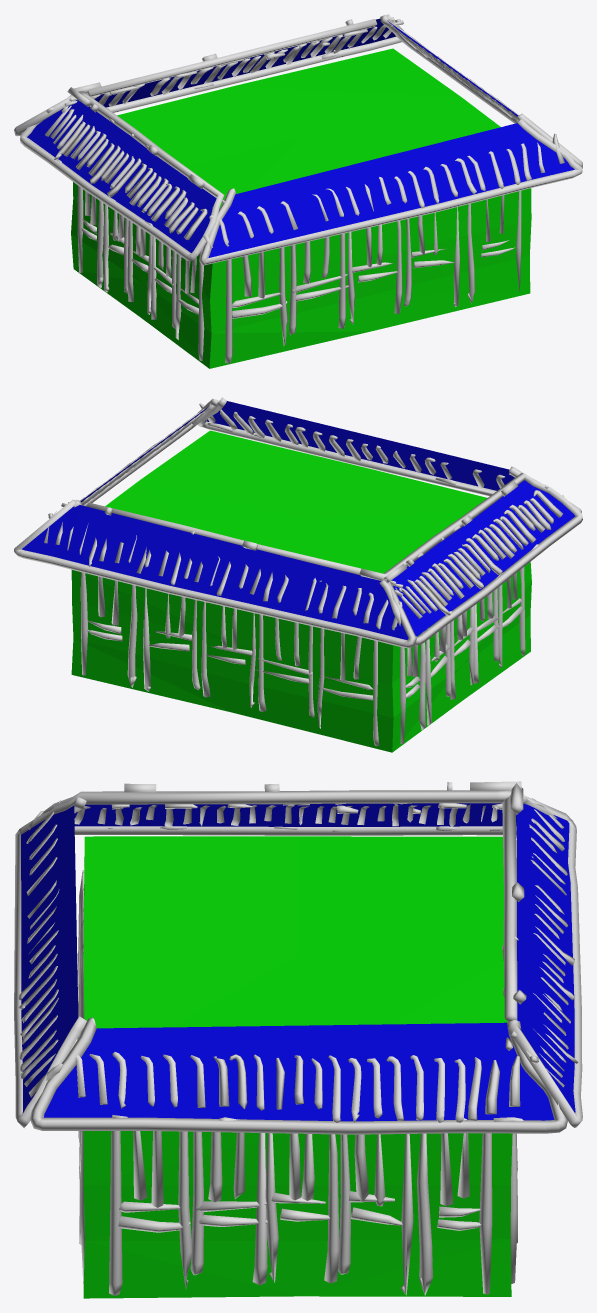
Rendered from house4.fbx.
3 views of the same model, one above another, from view 1: azimuth 30°, elevation 25°; view 2: azimuth 150°, elevation 25°; view 3: azimuth 270°, elevation 25° (orthographic). The views are drawn at different scales.
Parts seen in each view (by area): view 1: GP_Layer.009; view 2: GP_Layer.009; view 3: GP_Layer.009.
Part boxes in pixels (x1,y1,x2,y2): GP_Layer.009: (14,14,582,368); GP_Layer.009: (14,397,582,752); GP_Layer.009: (14,781,582,1298).
Size of the model in its own units: 704 by 304 by 564.
